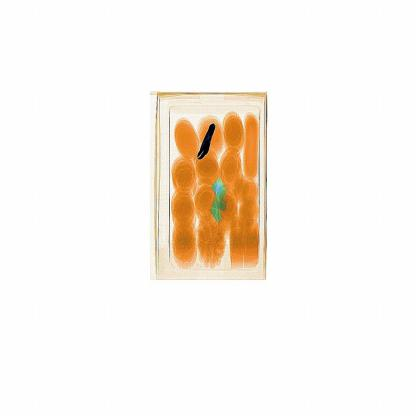knife: (196, 124, 225, 162)
